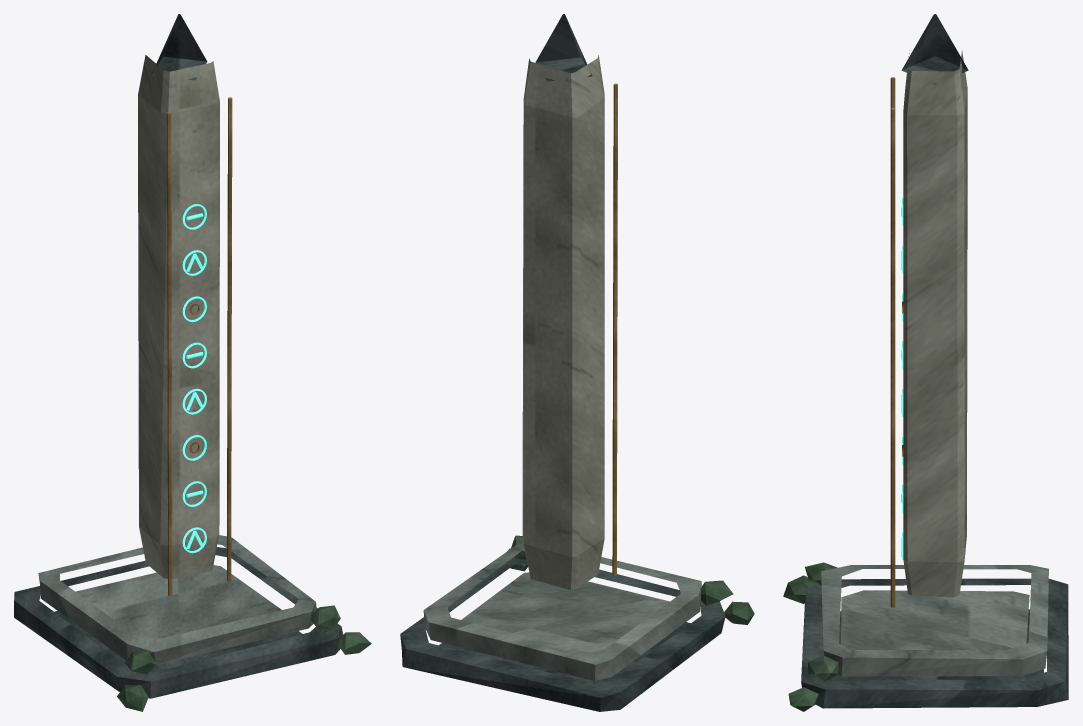
Rendered from 0476_obelisk_01.glb.
3 views of the same model, side by side, from view 1: azimuth 30°, elevation 25°; view 2: azimuth 150°, elevation 25°; view 3: azimuth 270°, elevation 25° (orthographic). The views are drawn at different scales.
Visible parts, largest first — view 1: stone_light, stone, stone_dark, brass, moss, glow; view 2: stone_light, stone, stone_dark, brass, moss; view 3: stone_light, stone, stone_dark, brass, moss, glow.
Part boxes in pixels (x1,y1,x2,y2): stone_light: (138,55,219,579); stone: (38,535,316,665); stone_dark: (14,14,343,698); brass: (167,97,232,595); moss: (117,605,371,711); glow: (182,204,206,553); stone_light: (522,55,604,589); stone: (423,544,701,680); stone_dark: (400,14,725,711); brass: (612,83,617,575); moss: (507,535,754,624); stone_light: (903,50,967,597); stone: (821,565,1048,676); stone_dark: (801,14,1068,708); brass: (890,77,903,607); moss: (783,562,838,711); glow: (901,198,903,560).
Size of the model in its own units: 2.09 by 5.04 by 2.04.
Materials: 6 (6 with a texture image).
